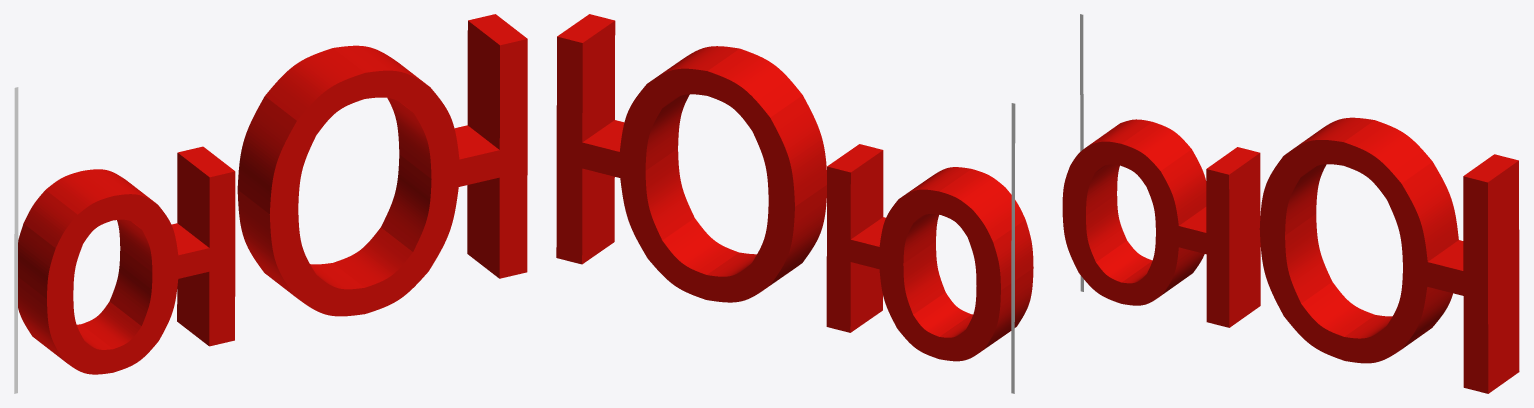
3 renders of one model, left to right at view 1: azimuth 30°, elevation 25°; view 2: azimuth 150°, elevation 25°; view 3: azimuth 330°, elevation 25°, orthographic. The views are drawn at different scales.
Visible parts, largest first — view 1: Mesh_0.035, Плоскость; view 2: Mesh_0.035, Плоскость; view 3: Mesh_0.035, Плоскость.
Boxes of the visible parts, box(x1,y1,x2,y2) form: Mesh_0.035: box(18, 14, 527, 374); Плоскость: box(14, 87, 18, 393); Mesh_0.035: box(556, 14, 1033, 361); Плоскость: box(1011, 103, 1015, 393); Mesh_0.035: box(1062, 117, 1519, 393); Плоскость: box(1080, 14, 1083, 291).
Size of the model in its own units: 15.46 by 9.38 by 2.16.
